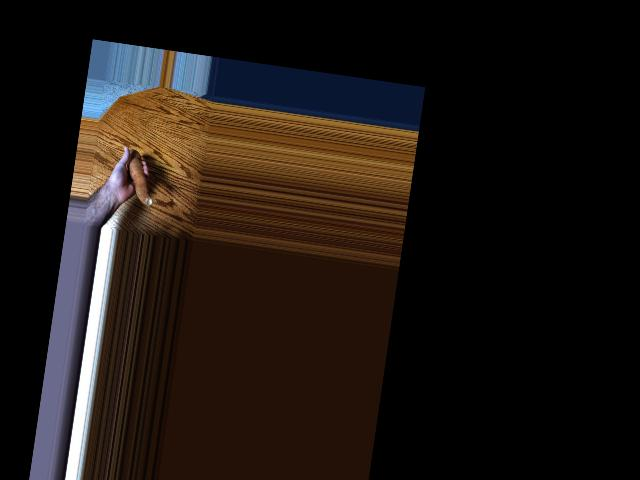sweet_potato: (122, 151, 159, 208)
